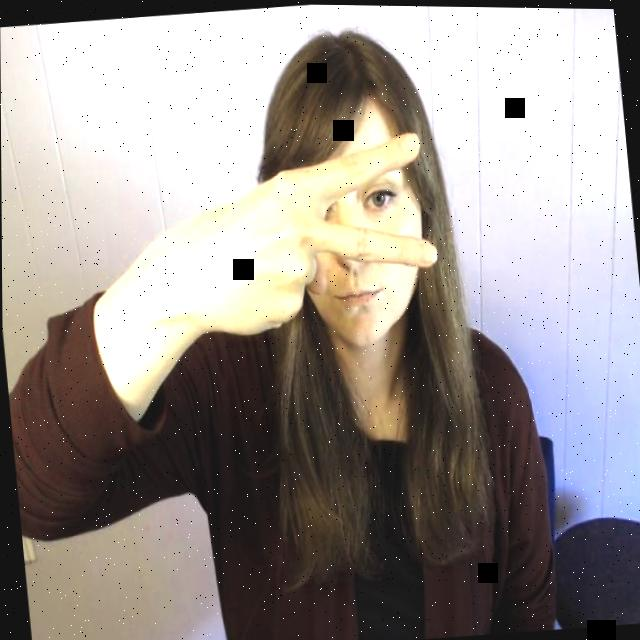Scissors: (151, 126, 446, 349)
